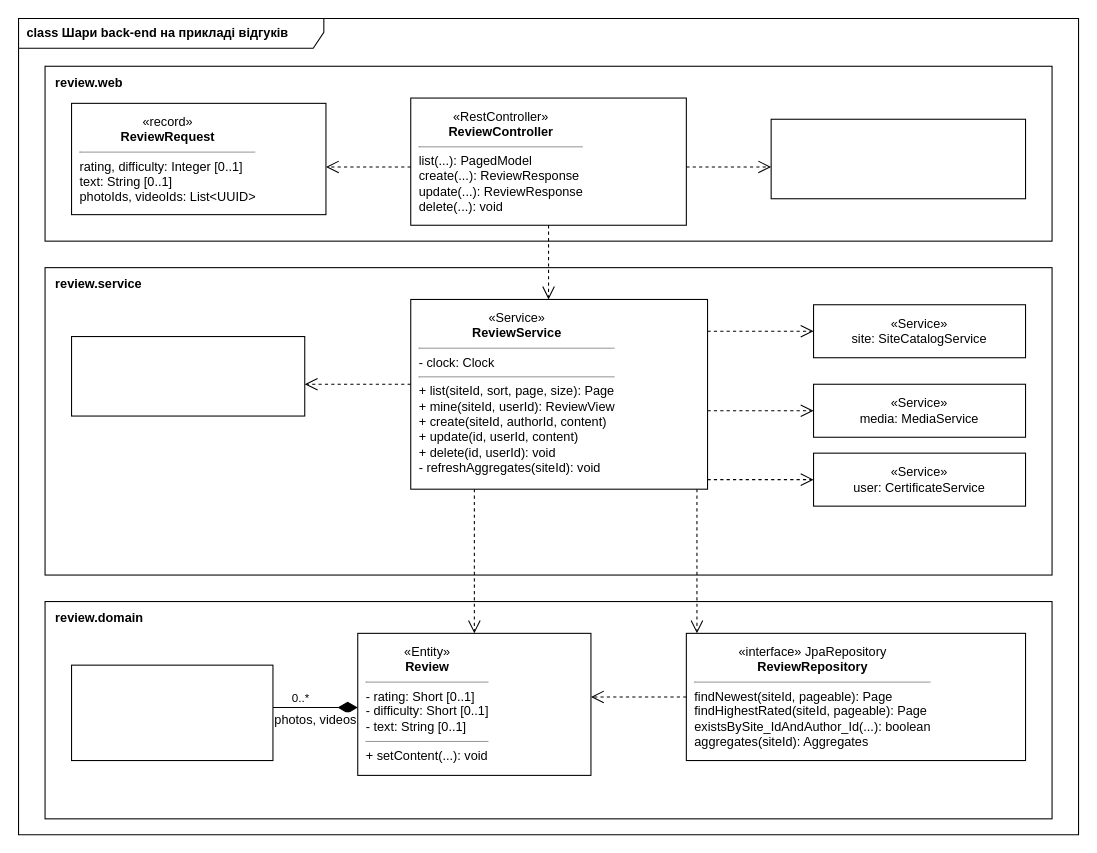
This 1097x853 diagram has some shape labels left out. Each missing label, with the centre of its shape:
«embeddable» ReviewMedia - mediaId: UUID - position: short: point 171,712
«record» ReviewResponse поля відгуку для клієнта: point 898,158
«record» ReviewView поля відгуку, автор, медіа: point 187,375
